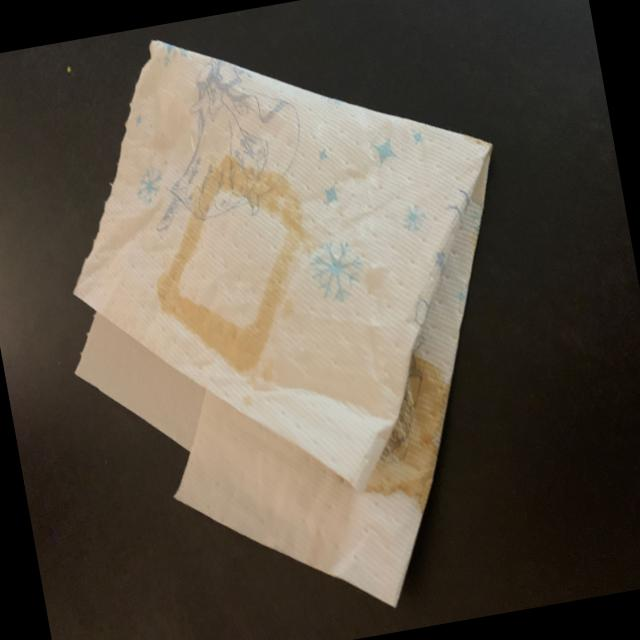organic waste: (25, 0, 568, 640)
